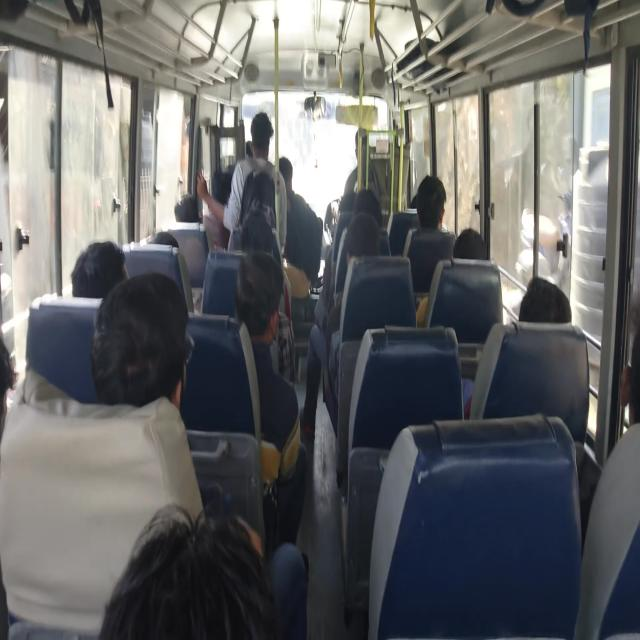person: (0, 271, 205, 638), (98, 502, 309, 639), (90, 270, 205, 521), (234, 249, 307, 546), (574, 326, 639, 638), (302, 211, 381, 437), (462, 276, 572, 418), (91, 271, 191, 410), (196, 111, 288, 250), (415, 227, 487, 327), (276, 156, 322, 298), (403, 174, 455, 295), (70, 239, 129, 298), (516, 206, 561, 280), (343, 126, 381, 196), (518, 275, 572, 323), (412, 174, 448, 232), (452, 227, 487, 259)
